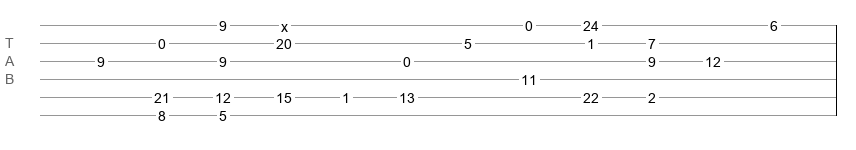0: (158, 36, 166, 46), (403, 54, 411, 64), (525, 18, 533, 28)
1: (342, 90, 350, 100), (587, 36, 595, 46)
11: (521, 72, 537, 82)
12: (215, 90, 231, 100), (705, 54, 721, 64)
13: (399, 90, 415, 100)
15: (276, 90, 292, 100)
2: (648, 90, 656, 100)
20: (276, 36, 292, 46)
21: (154, 90, 170, 100)
22: (583, 90, 599, 100)
24: (583, 18, 599, 28)
5: (219, 108, 227, 118), (464, 36, 472, 46)
6: (770, 18, 778, 28)
7: (648, 36, 656, 46)
8: (158, 108, 166, 118)
9: (97, 54, 105, 64), (219, 54, 227, 64), (219, 18, 227, 28), (648, 54, 656, 64)
x: (281, 19, 288, 27)
